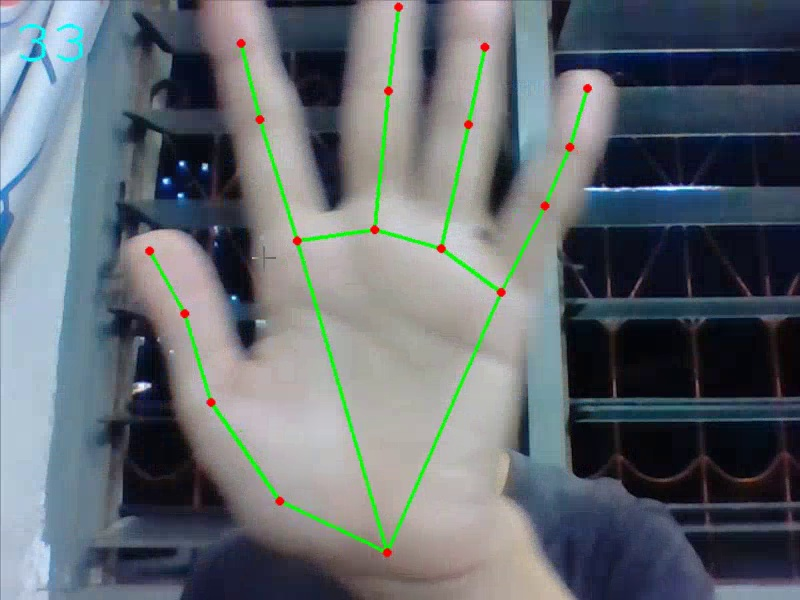Hello: (118, 1, 625, 559)
